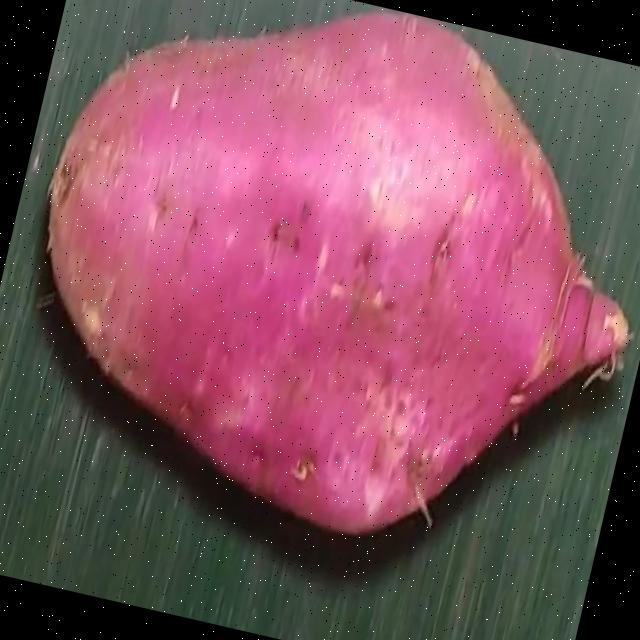Sweet Potato: (50, 15, 624, 533)
